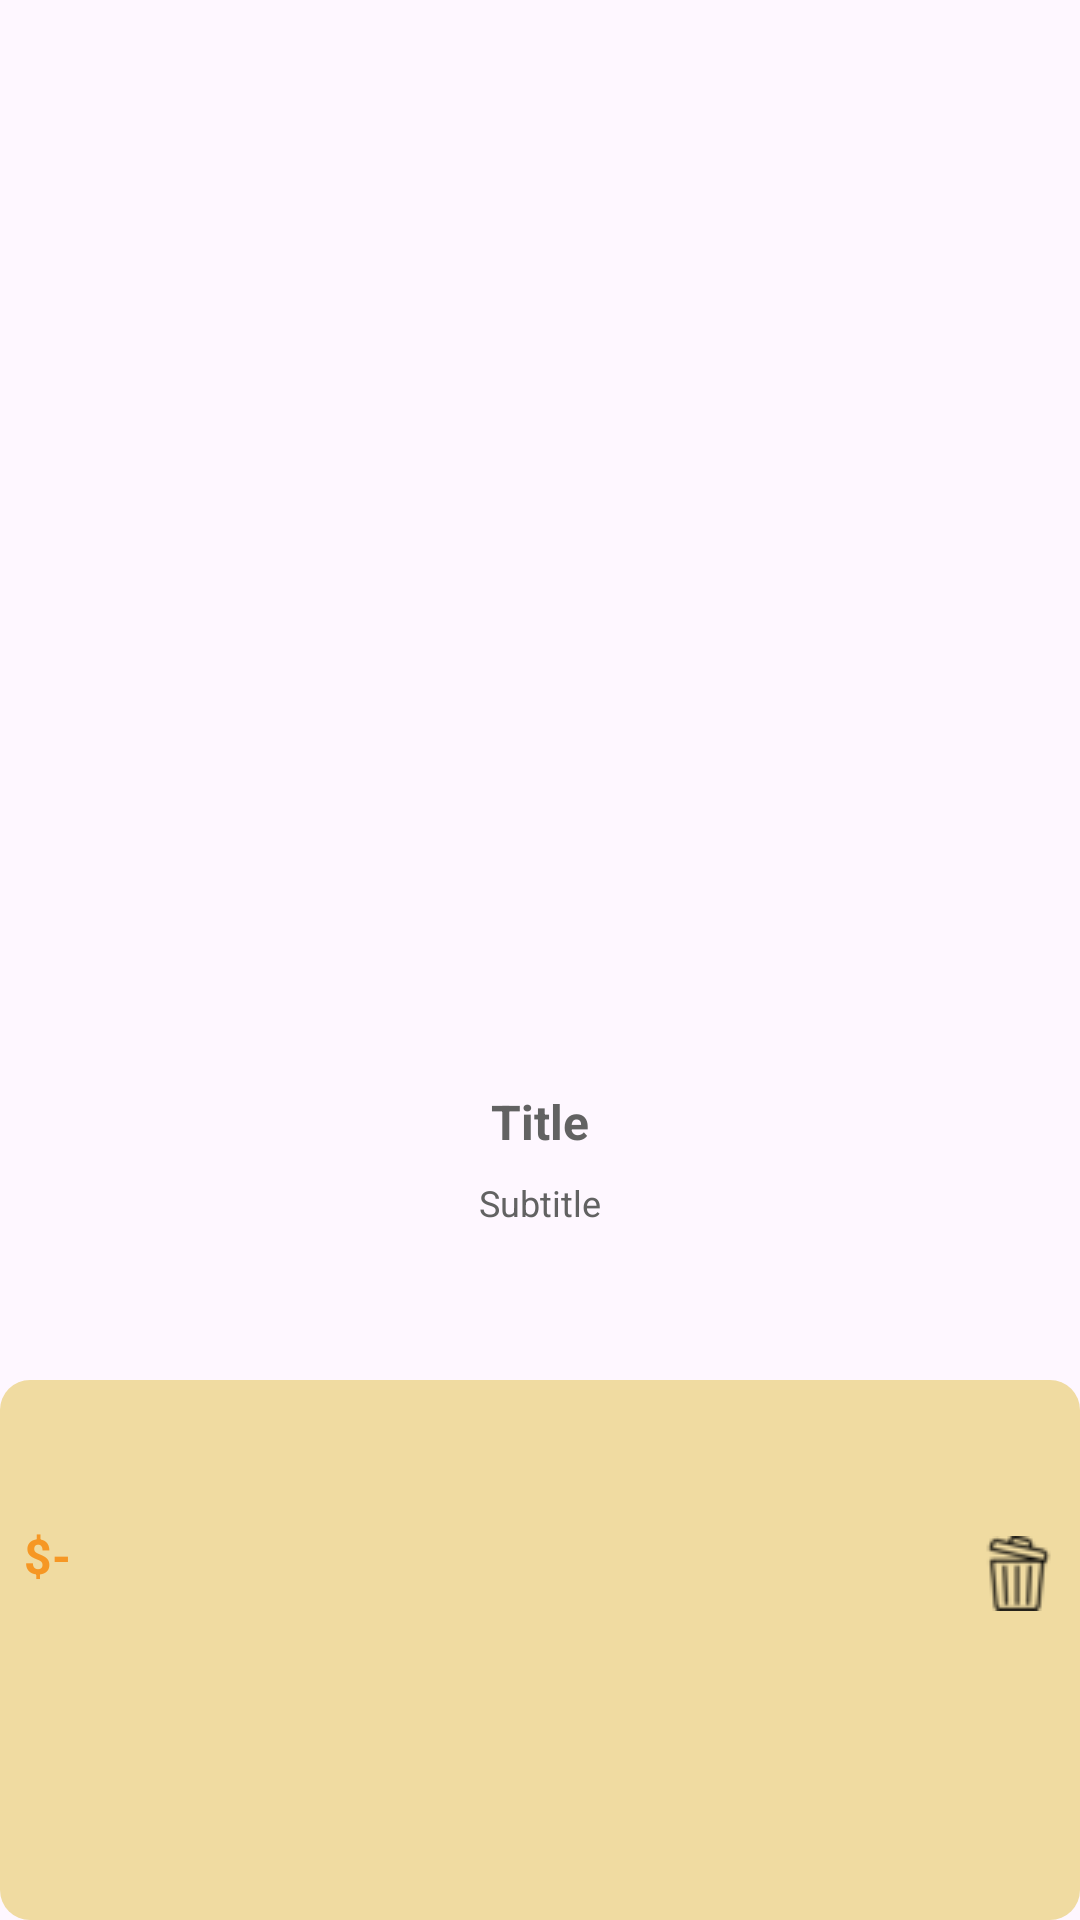

Point at icon controls on the screen. Image size 1080px x 1920px, points as point (x, y).
delete: point (1019, 1573)
